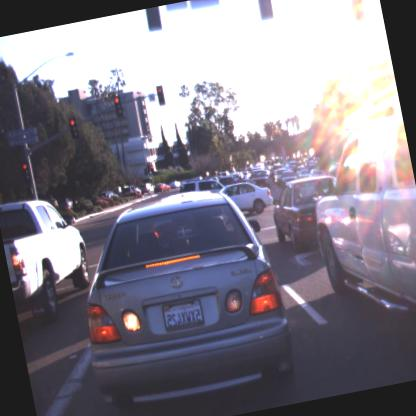trafficlight: (110, 88, 128, 124), (66, 112, 82, 148), (19, 158, 34, 191), (151, 81, 167, 110)
